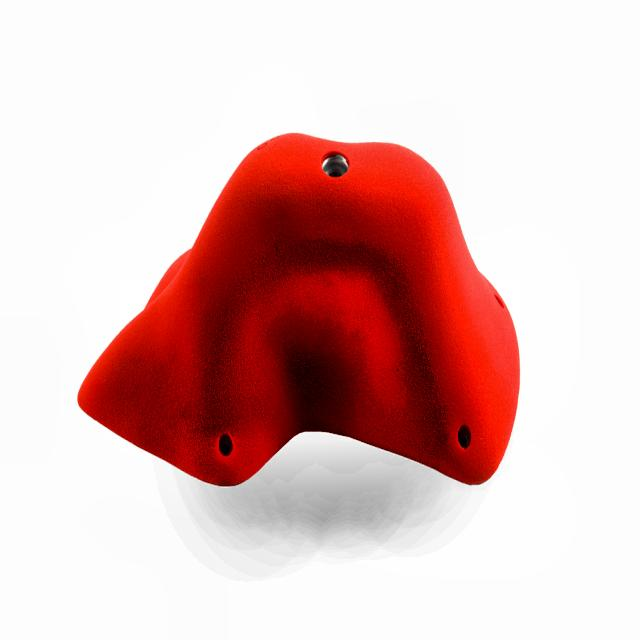Hold: (68, 131, 519, 490)
